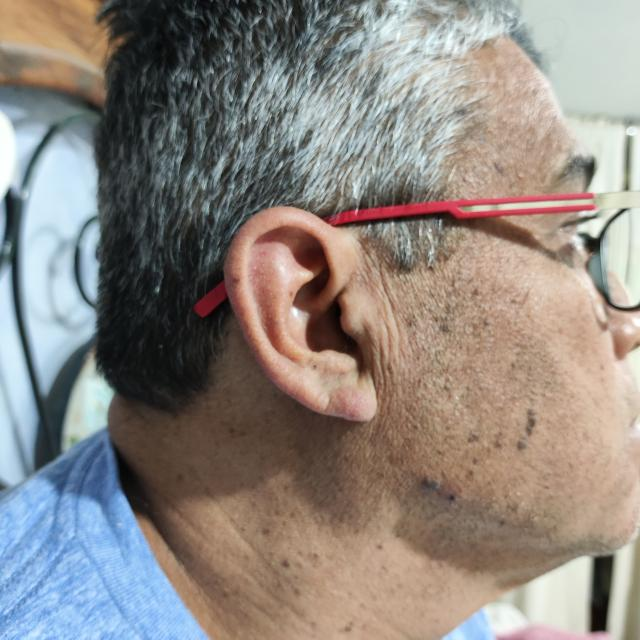ear: (225, 206, 395, 422)
